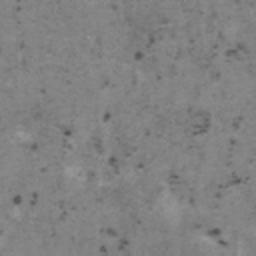Oxide scale of temperature system: (166, 105, 246, 247), (132, 23, 247, 82), (84, 111, 145, 184), (28, 100, 73, 152), (10, 191, 72, 223), (97, 225, 132, 255), (101, 76, 111, 92), (14, 0, 23, 13)
